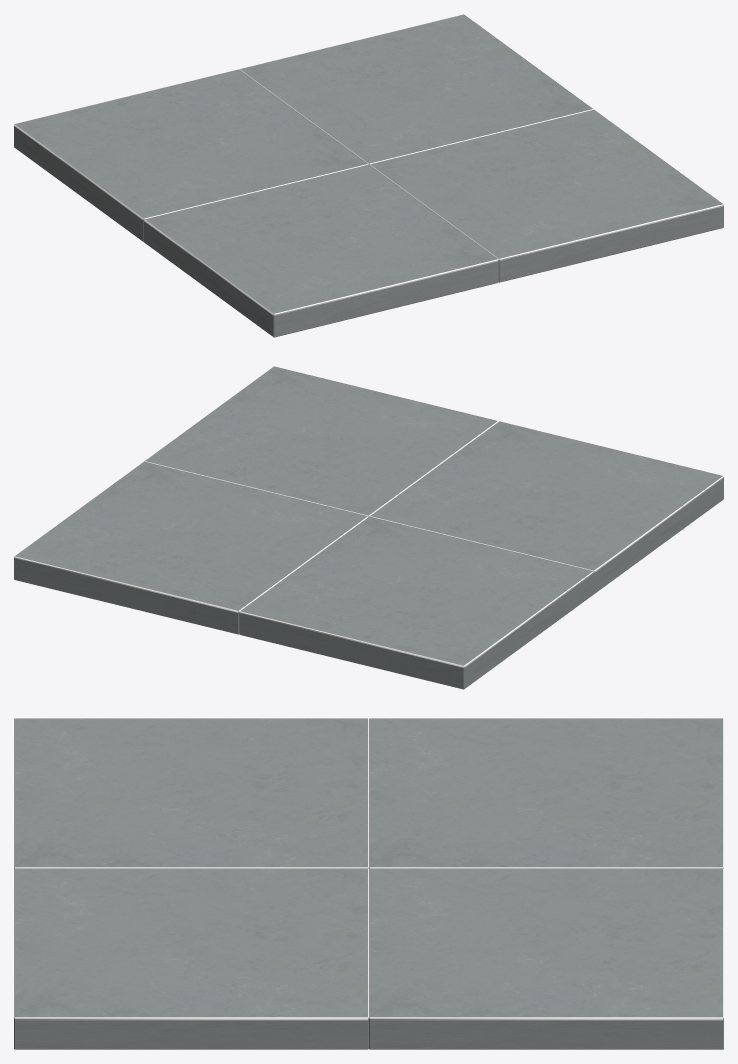
3 views of the same model, one above another, from view 1: azimuth 30°, elevation 25°; view 2: azimuth 150°, elevation 25°; view 3: azimuth 270°, elevation 25° (orthographic). The views are drawn at different scales.
Parts seen in each view (by area): view 1: плита_4 4*4м; view 2: плита_4 4*4м; view 3: плита_4 4*4м.
Boxes of the visible parts, <box> form: плита_4 4*4м: <box>14,14,723,337</box>; плита_4 4*4м: <box>14,366,723,689</box>; плита_4 4*4м: <box>14,718,723,1049</box>.
Bounding box in the file's own units: 800 × 40.42 × 800.
2 materials, 1 textured.
